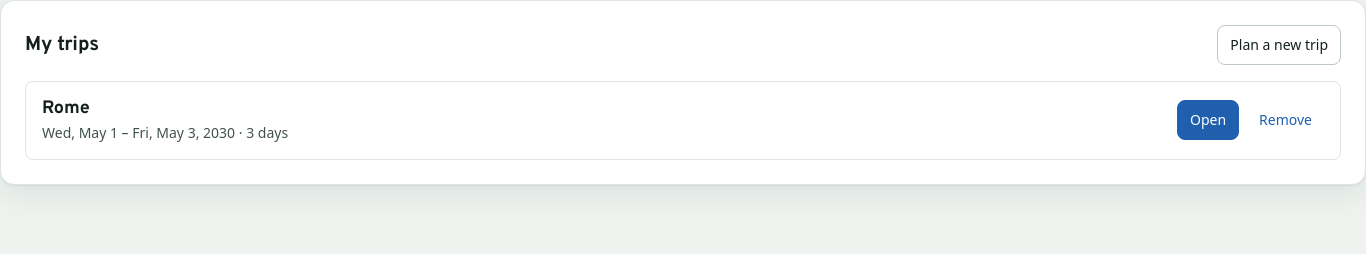
Test: MyTrips › removes a trip from the list
The width and height of the screenshot is (1366, 254).
Click the button with aria-label "Remove Rome trip from My trips" at (1286, 120), box 1247,100 -> 1324,140
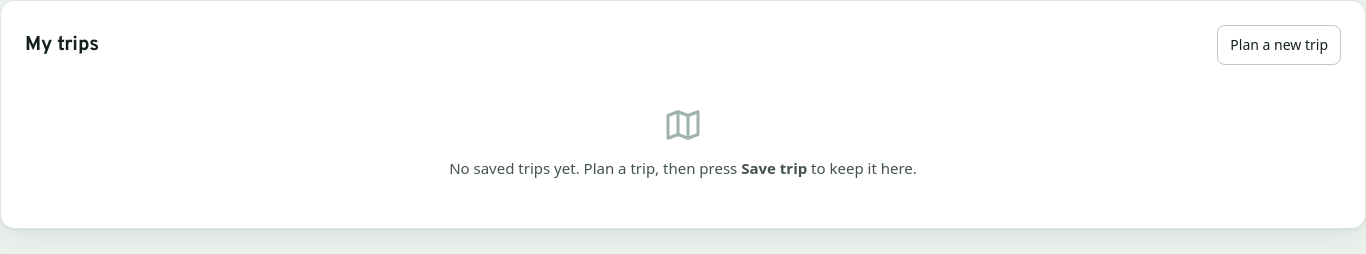
Check: the text "No saved trips yet" is shown, box 449,158 -> 741,178
